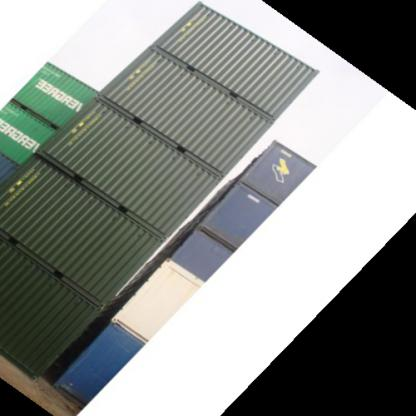Damage: (102, 210, 125, 228), (142, 131, 159, 150), (118, 114, 132, 136)
